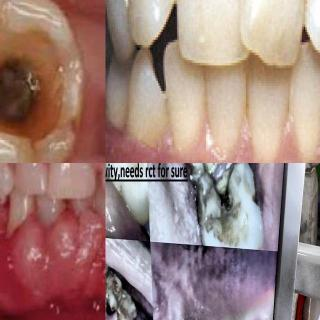Gum Swelling: (0, 207, 106, 272)
cavities: (0, 40, 61, 145)
maligned: (114, 53, 168, 149), (234, 0, 312, 60), (125, 0, 181, 46)
stains: (106, 277, 128, 315), (117, 301, 139, 320)
